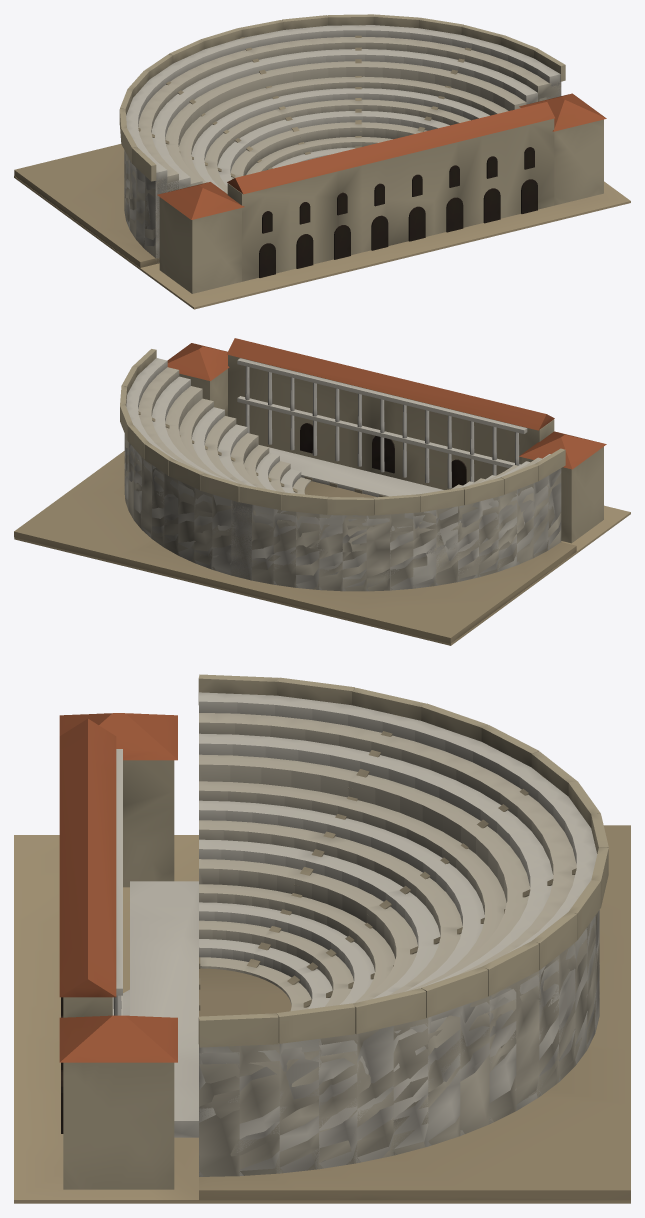
Rendered from roman-theatre.glb.
The picture shows the model from 3 angles, top to bottom: view 1: azimuth 30°, elevation 25°; view 2: azimuth 150°, elevation 25°; view 3: azimuth 270°, elevation 25°; orthographic projection. The views are drawn at different scales.
Parts seen in each view (by area): view 1: p0_cavea, p1_stage, p2_scaenae frons; view 2: p0_cavea, p1_stage, p2_scaenae frons; view 3: p0_cavea, p1_stage, p2_scaenae frons.
Part boxes in pixels (x1,y1,x2,y2): p0_cavea: [14, 25, 630, 309]; p1_stage: [119, 14, 606, 293]; p2_scaenae frons: [227, 102, 554, 194]; p0_cavea: [14, 358, 630, 645]; p1_stage: [120, 343, 606, 543]; p2_scaenae frons: [226, 338, 554, 488]; p0_cavea: [14, 692, 630, 1203]; p1_stage: [59, 674, 608, 1189]; p2_scaenae frons: [59, 719, 122, 1015].
Size of the model in its own units: 70.03 by 15.53 by 50.
